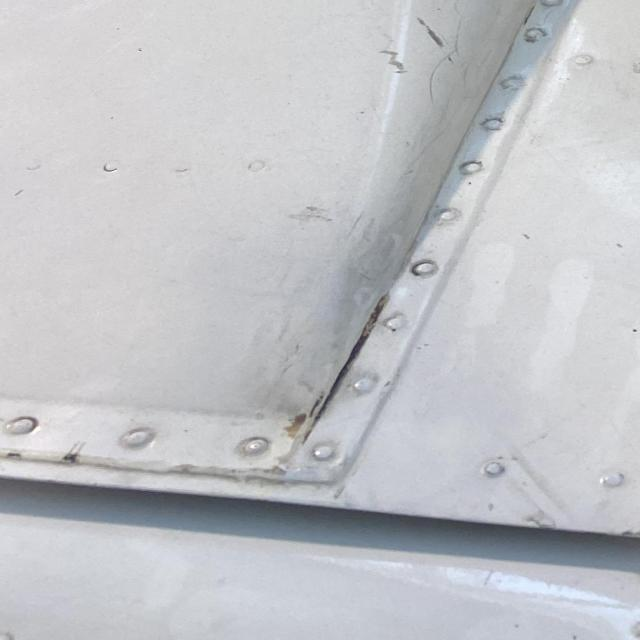Paint-off: (286, 208, 330, 226), (525, 510, 556, 529)
